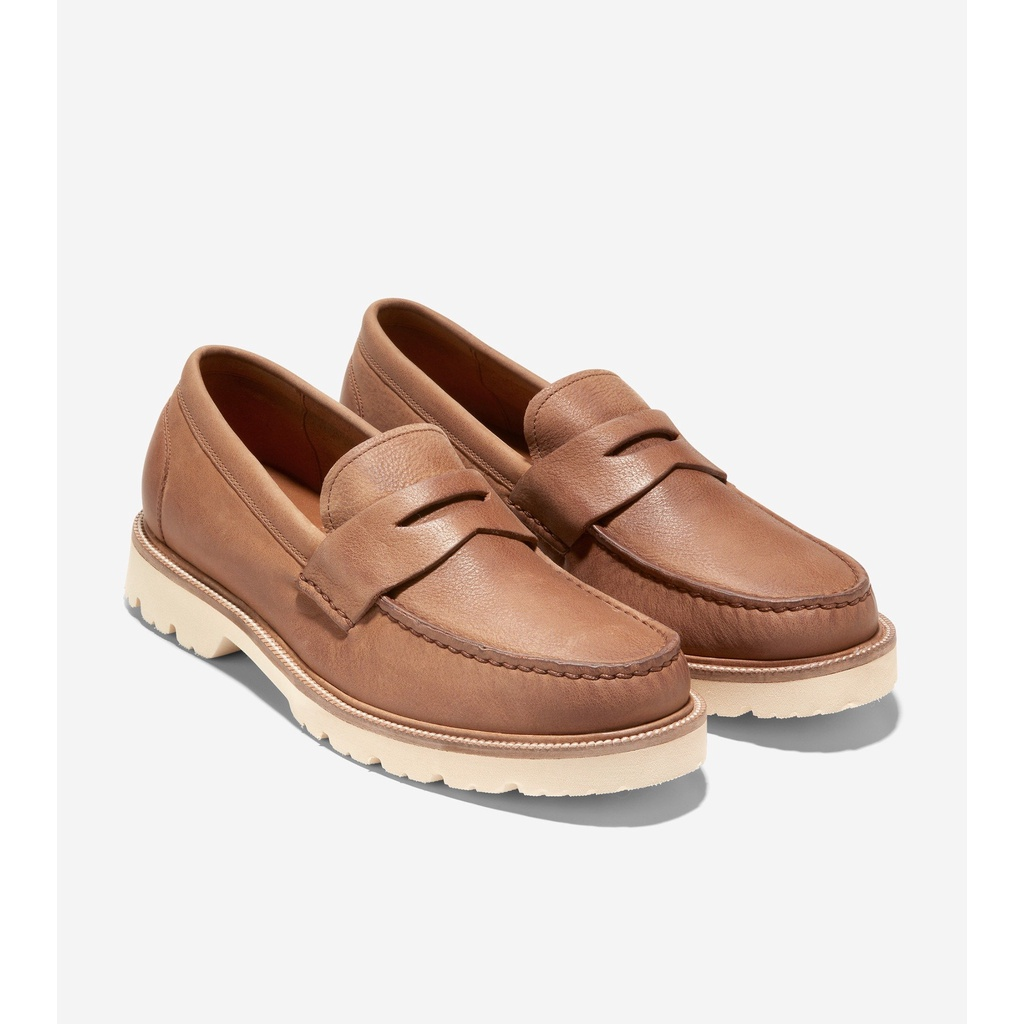loafers: (123, 344, 708, 802), (339, 300, 900, 720)
